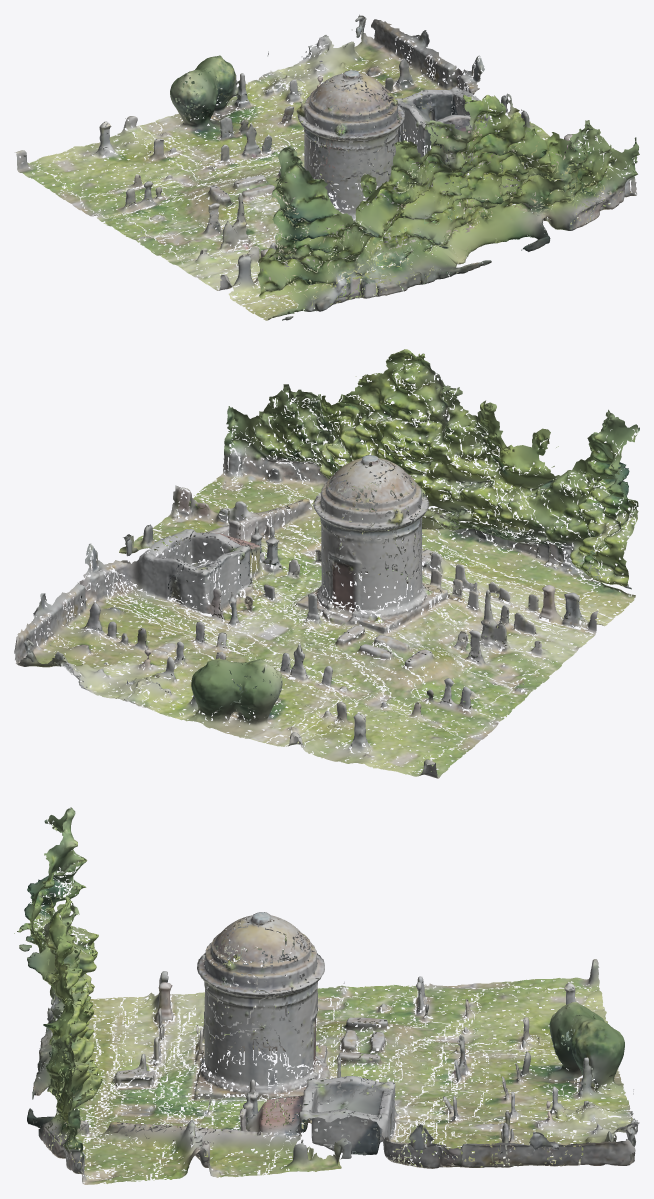
Rendered from cluny.glb.
3 renders of one model, top to bottom at view 1: azimuth 30°, elevation 25°; view 2: azimuth 150°, elevation 25°; view 3: azimuth 270°, elevation 25°, orthographic. The views are drawn at different scales.
Visible parts, largest first — view 1: Object_2, Object_3, Object_0, Object_10, Object_7, Object_1, Object_13, Object_6, Object_12, Object_11, Object_9, Object_15 (+6 smaller); view 2: Object_3, Object_11, Object_9, Object_0, Object_7, Object_6, Object_8, Object_1, Object_2, Object_12, Object_4, Object_10 (+6 smaller); view 3: Object_11, Object_14, Object_0, Object_4, Object_7, Object_10, Object_6, Object_5, Object_8, Object_9, Object_12, Object_16 (+6 smaller).
Boxes of the visible parts, <box> form: Object_2: <box>272,122,593,310</box>; Object_3: <box>218,113,530,311</box>; Object_0: <box>15,150,626,320</box>; Object_10: <box>149,64,306,265</box>; Object_7: <box>27,73,476,302</box>; Object_1: <box>228,125,636,311</box>; Object_13: <box>257,95,519,320</box>; Object_6: <box>279,75,400,264</box>; Object_12: <box>258,35,639,264</box>; Object_11: <box>81,30,472,206</box>; Object_9: <box>124,56,483,251</box>; Object_15: <box>29,14,479,224</box>; Object_3: <box>346,373,634,634</box>; Object_11: <box>33,570,471,754</box>; Object_9: <box>92,481,516,746</box>; Object_0: <box>196,440,638,778</box>; Object_7: <box>160,458,604,776</box>; Object_6: <box>313,459,511,620</box>; Object_8: <box>111,531,411,746</box>; Object_1: <box>199,390,638,626</box>; Object_2: <box>277,387,639,598</box>; Object_12: <box>60,349,463,706</box>; Object_4: <box>152,424,638,738</box>; Object_10: <box>142,643,567,742</box>; Object_11: <box>388,976,636,1168</box>; Object_14: <box>31,856,628,1180</box>; Object_0: <box>51,909,599,1180</box>; Object_4: <box>23,815,482,1179</box>; Object_7: <box>129,915,607,1155</box>; Object_10: <box>327,1001,630,1122</box>; Object_6: <box>178,915,324,1096</box>; Object_5: <box>138,998,333,1151</box>; Object_8: <box>261,1018,554,1175</box>; Object_9: <box>253,925,555,1167</box>; Object_12: <box>27,904,639,1184</box>; Object_16: <box>261,928,573,1174</box>.
Bounding box in the file's own units: 31.11 × 13.09 × 34.17.
